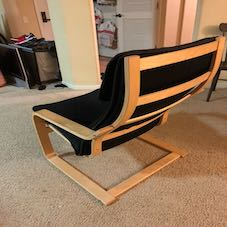chair: (23, 21, 224, 208)
